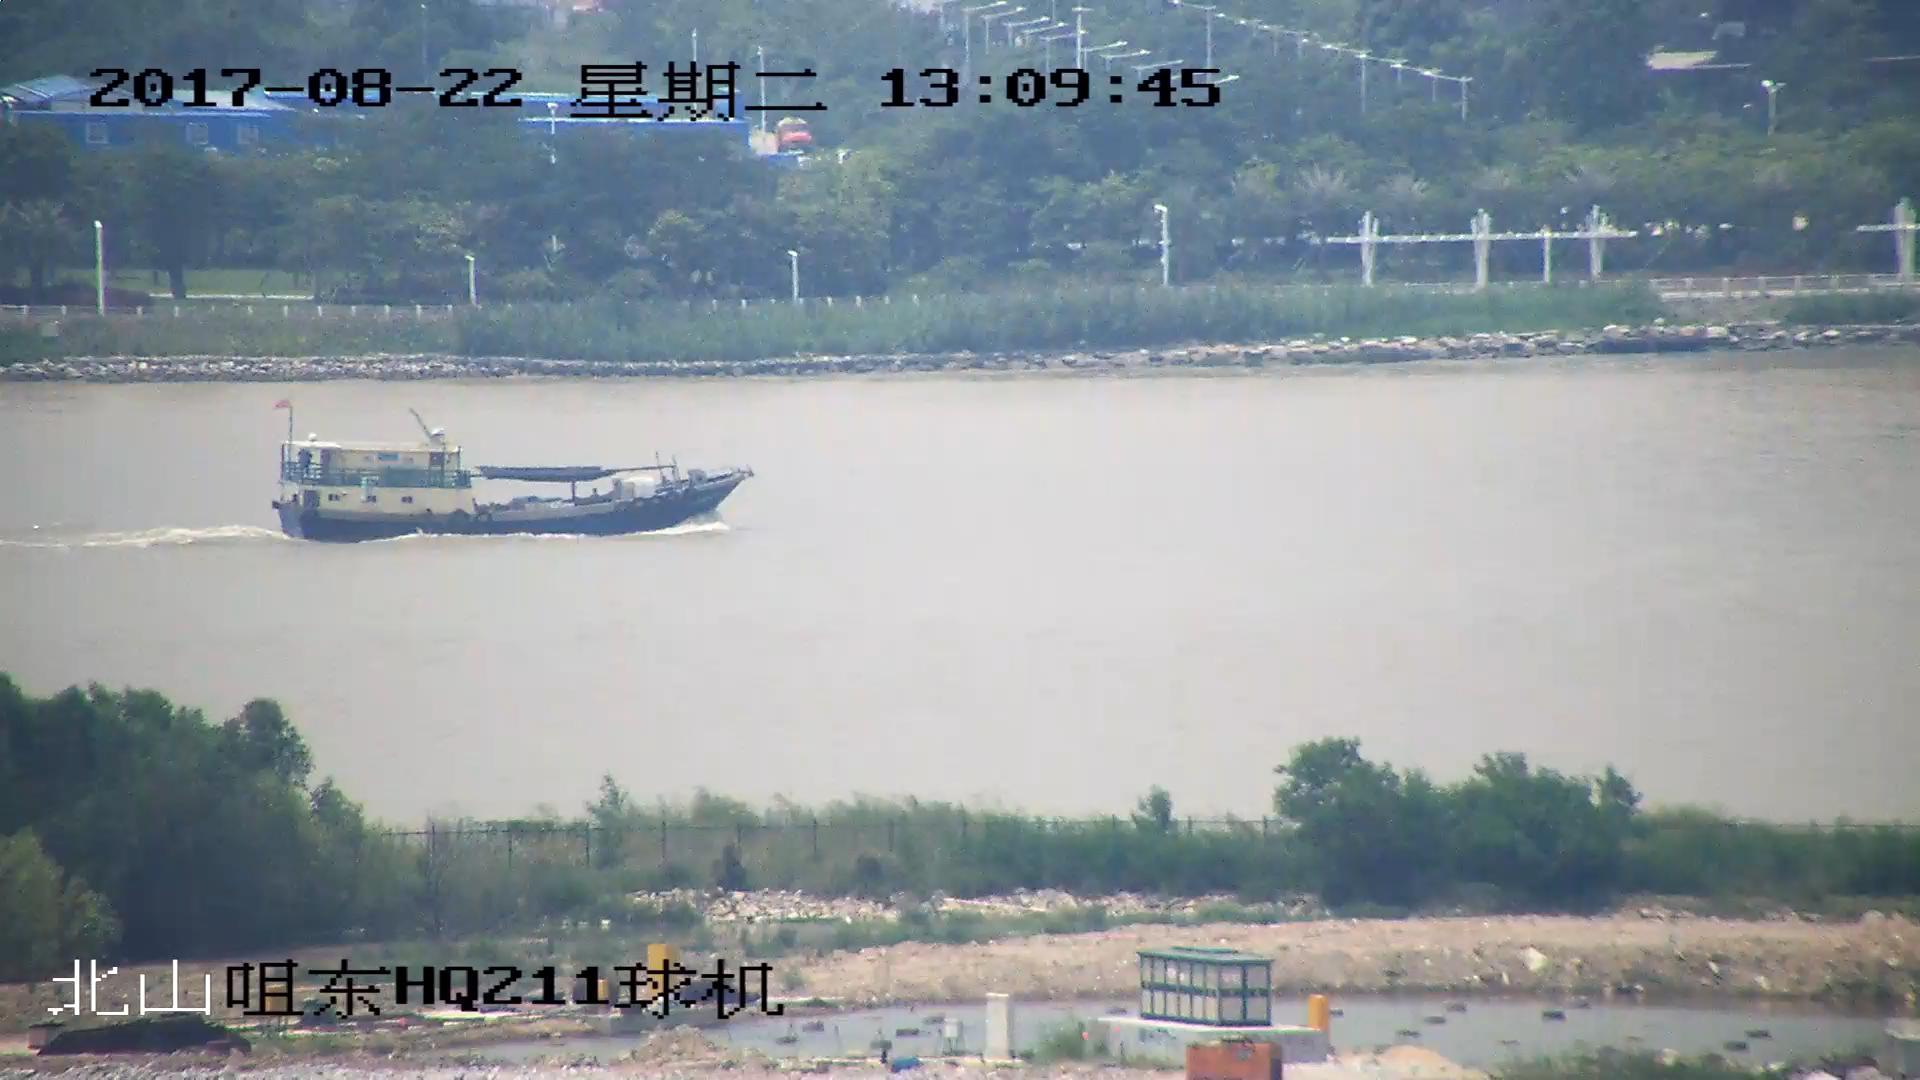fishing boat: (273, 400, 752, 543)
